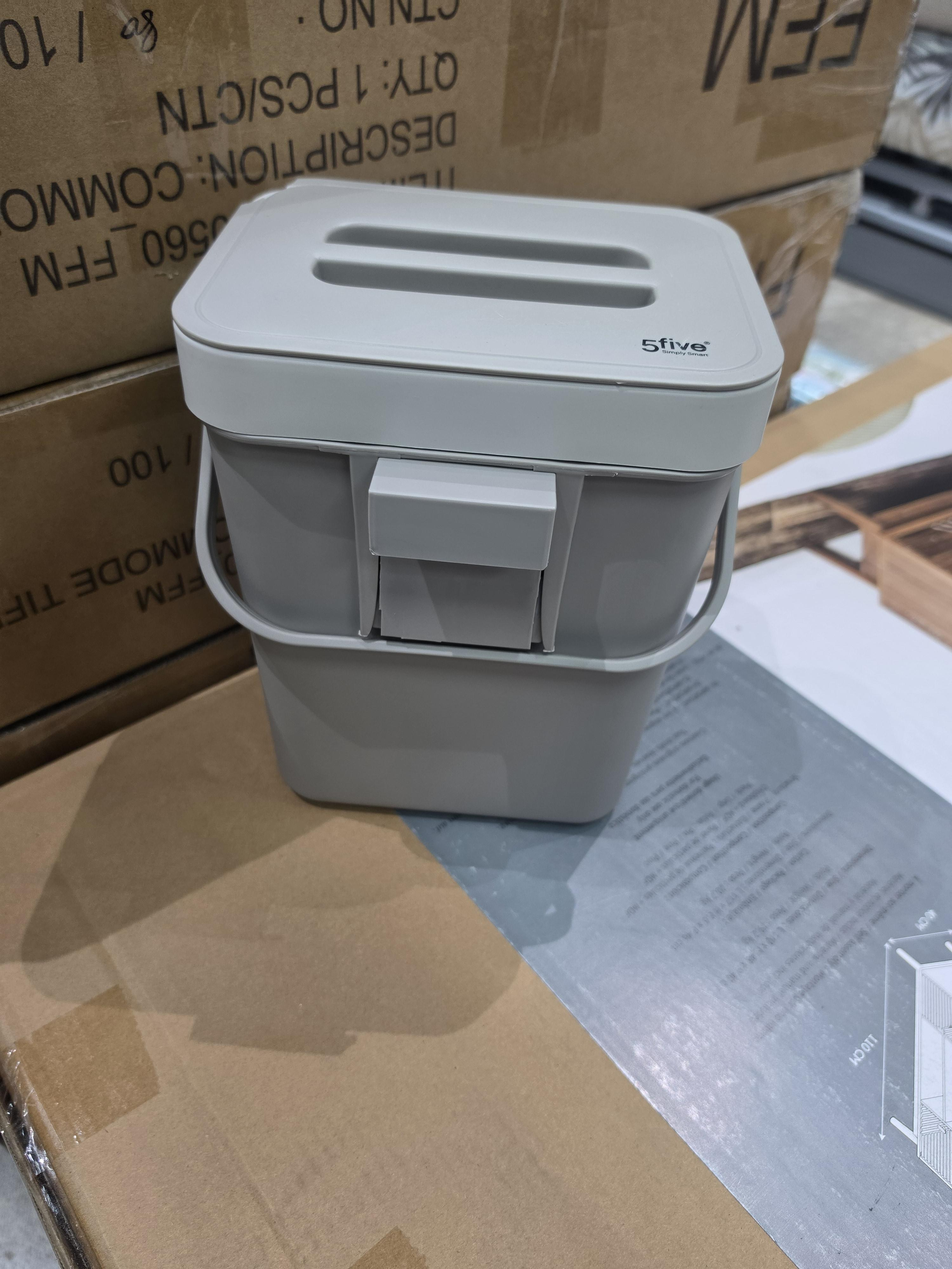bin: (169, 177, 785, 825)
